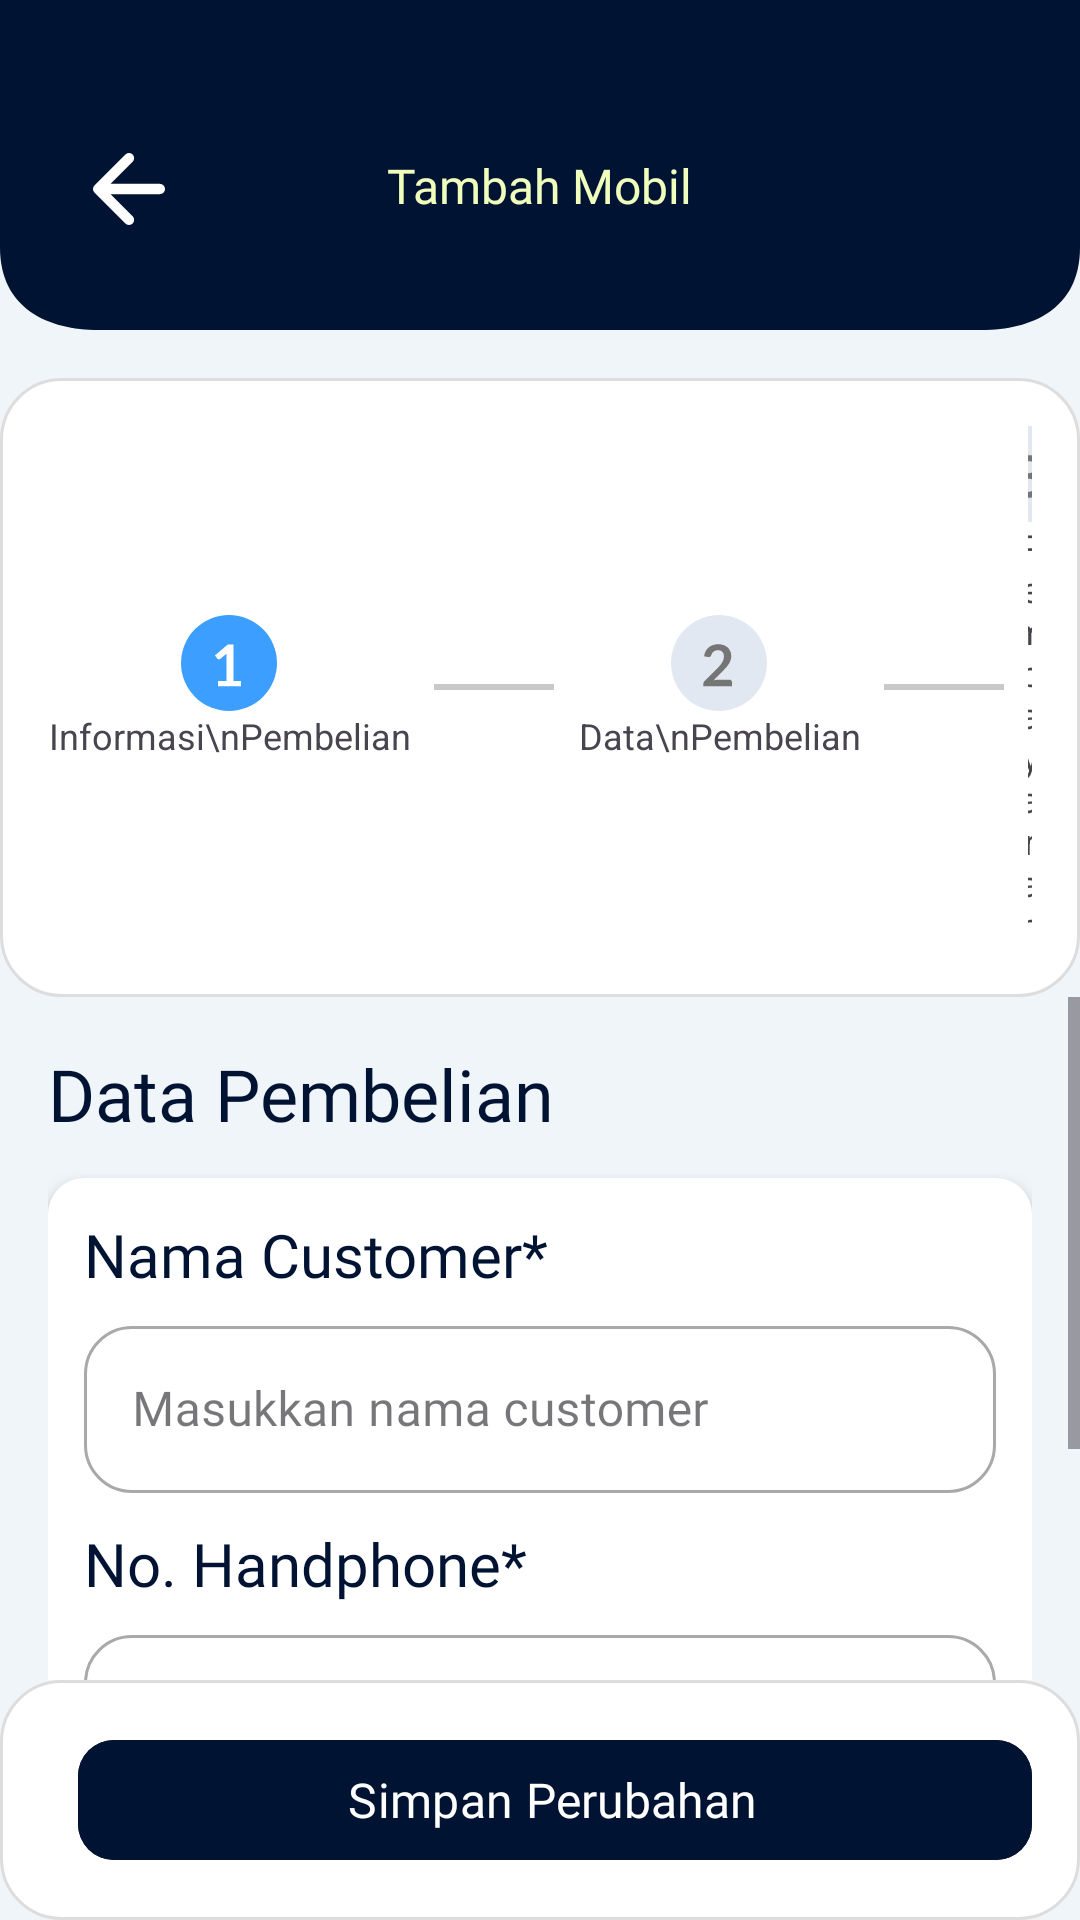

Where to tap for icons on this 1080×1920 app screen, as point (x, y):
back: point (129, 189)
